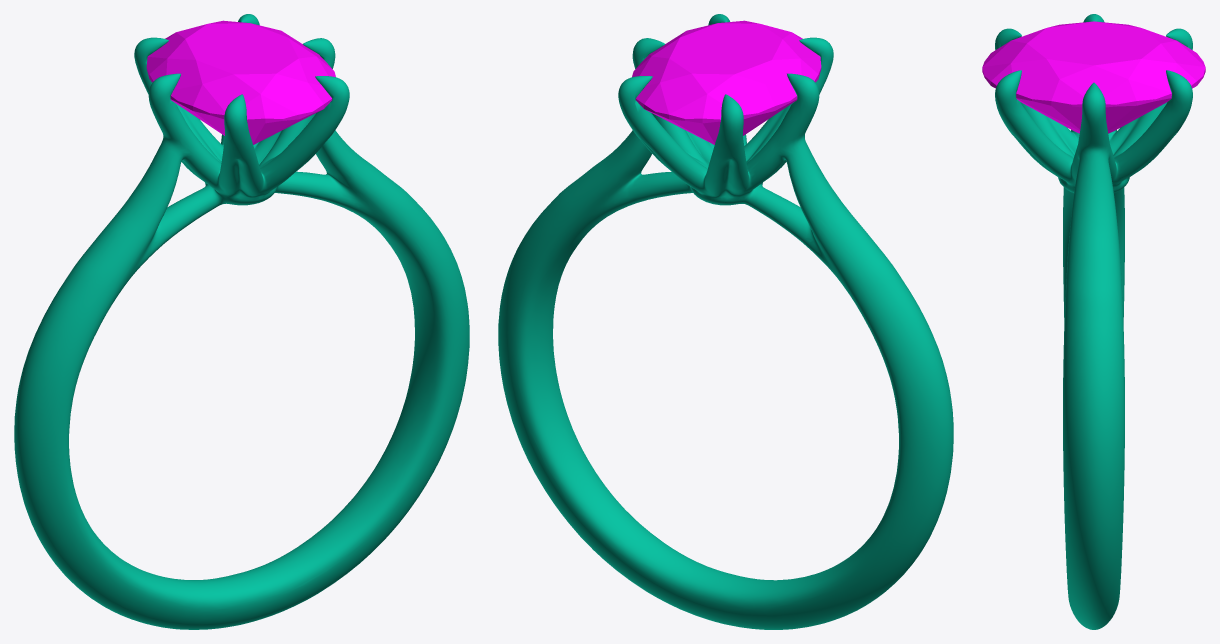
Rendered from BE1D50L_OV_200ct_RENDER.glb.
3 renders of one model, left to right at view 1: azimuth 30°, elevation 25°; view 2: azimuth 150°, elevation 25°; view 3: azimuth 270°, elevation 25°, orthographic.
Visible parts, largest first — view 1: Metal 01, CS_Diamond_Oval; view 2: Metal 01, CS_Diamond_Oval; view 3: Metal 01, CS_Diamond_Oval.
Boxes of the visible parts, <box> form: Metal 01: <box>14,14,469,629</box>; CS_Diamond_Oval: <box>146,20,335,144</box>; Metal 01: <box>498,14,953,629</box>; CS_Diamond_Oval: <box>632,20,821,144</box>; Metal 01: <box>995,14,1192,629</box>; CS_Diamond_Oval: <box>982,21,1205,133</box>.
Size of the model in its own units: 20.51 by 25.04 by 9.
